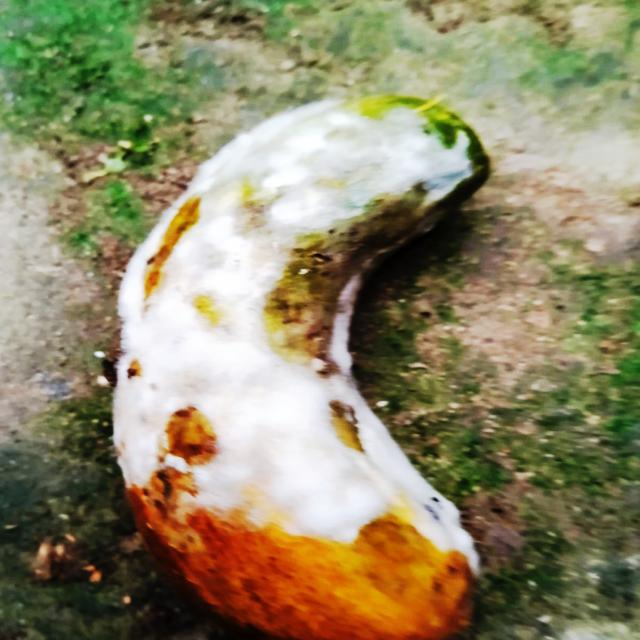Pythium-Fruit-Rot: (114, 94, 488, 593)
